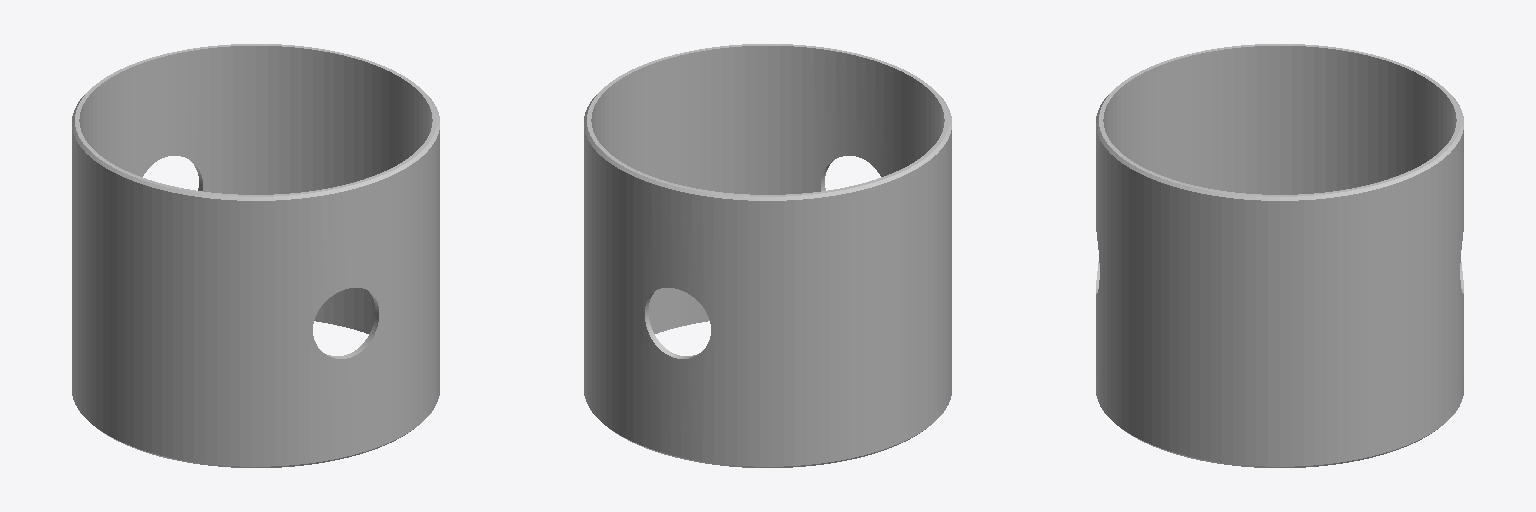
Rendered from 75. Втулка шестерни третьей передачи.obj.
The picture shows the model from 3 angles: view 1: azimuth 30°, elevation 25°; view 2: azimuth 150°, elevation 25°; view 3: azimuth 270°, elevation 25°; orthographic projection.
Parts seen in each view (by area): view 1: Твердое тело1; view 2: Твердое тело1; view 3: Твердое тело1.
Part boxes in pixels (x1,y1,x2,y2): Твердое тело1: (72, 44, 439, 467); Твердое тело1: (584, 44, 951, 467); Твердое тело1: (1096, 44, 1463, 467).
Bounding box in the file's own units: 48 × 39 × 48.